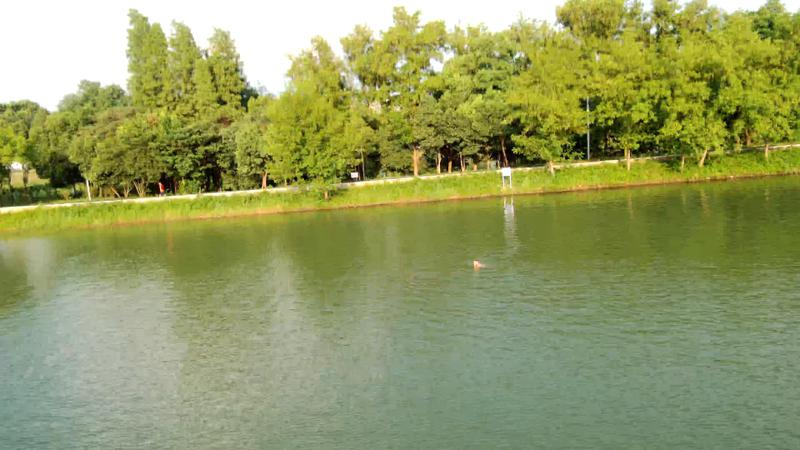passerby: (156, 178, 167, 198)
swimmers: (470, 256, 488, 275)
